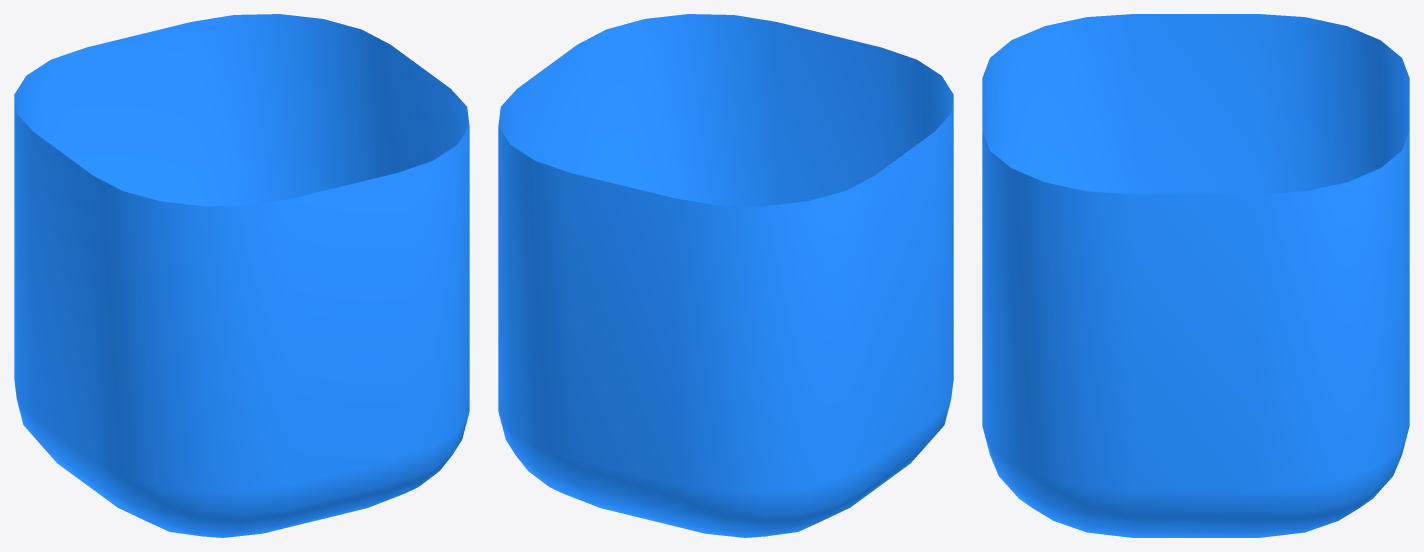
Rendered from 3dscn.gltf.
The picture shows the model from 3 angles, left to right: view 1: azimuth 30°, elevation 25°; view 2: azimuth 150°, elevation 25°; view 3: azimuth 270°, elevation 25°; orthographic projection. The views are drawn at different scales.
Visible parts, largest first — view 1: Land; view 2: Land; view 3: Land.
Part boxes in pixels (x1,y1,x2,y2): Land: (14, 14, 469, 537); Land: (498, 14, 953, 537); Land: (982, 14, 1409, 537).
Bounding box in the file's own units: 15.13 × 15.2 × 15.13.
